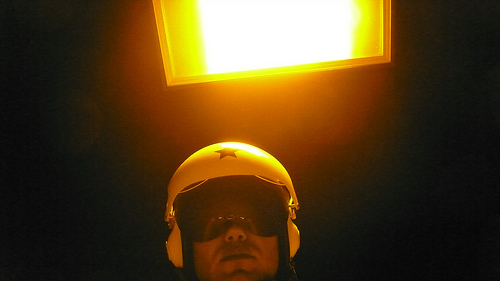helmet: (156, 146, 310, 243)
